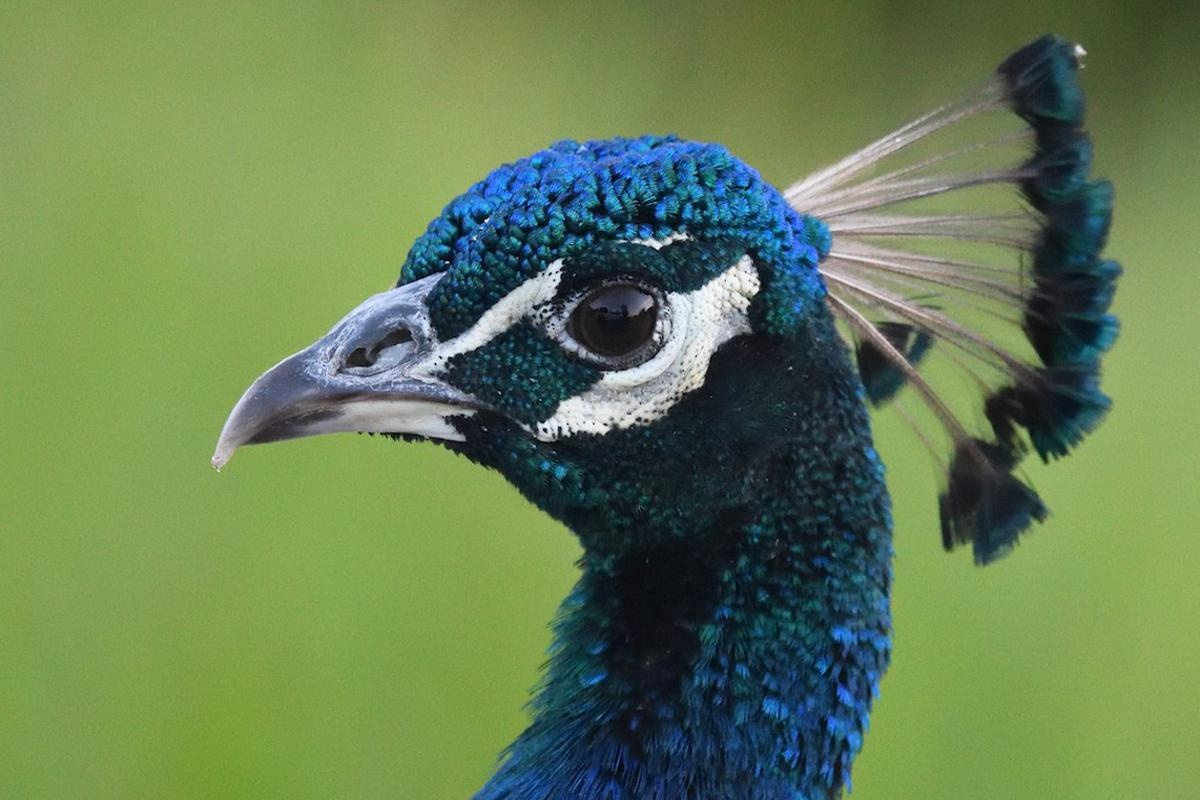peacock: (208, 73, 1091, 800)
